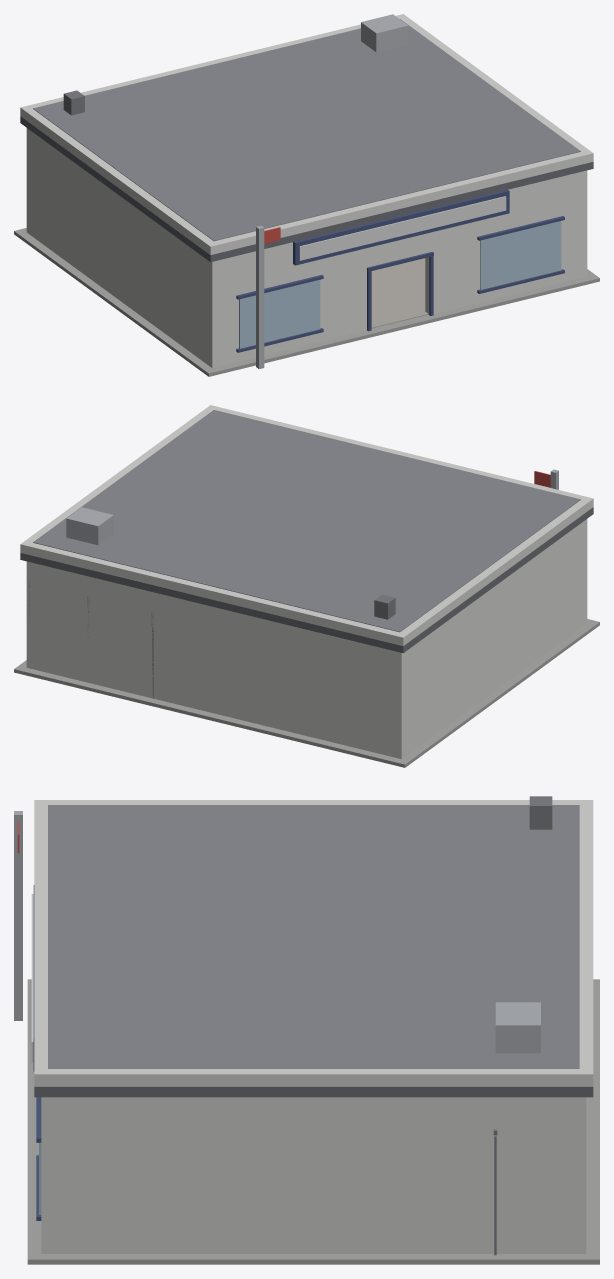
File: Bina_Karakol.glb
The picture shows the model from 3 angles, top to bottom: view 1: azimuth 30°, elevation 25°; view 2: azimuth 150°, elevation 25°; view 3: azimuth 270°, elevation 25°; orthographic projection. The views are drawn at different scales.
Parts seen in each view (by area): view 1: Bina_Karakol; view 2: Bina_Karakol; view 3: Bina_Karakol.
Part boxes in pixels (left/top/right/bottom): Bina_Karakol: left=14, top=14, right=599, bottom=376; Bina_Karakol: left=14, top=405, right=599, bottom=767; Bina_Karakol: left=14, top=796, right=599, bottom=1264.
Bounding box in the file's own units: 14.6 × 5.25 × 12.9.
